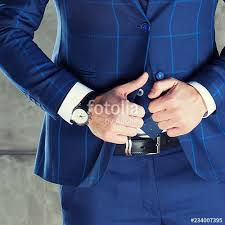F_belt: (97, 133, 194, 161)
